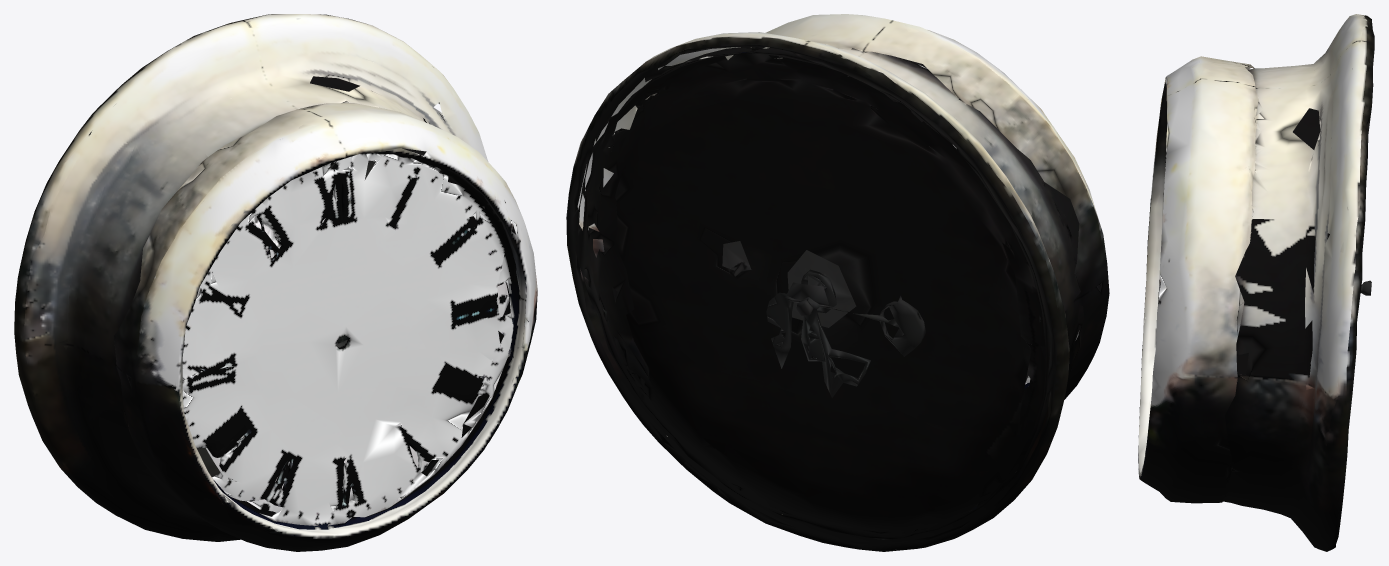
The model's file is hl_clock_face.glb.
The picture shows the model from 3 angles, left to right: view 1: azimuth 30°, elevation 25°; view 2: azimuth 150°, elevation 25°; view 3: azimuth 270°, elevation 25°; orthographic projection. The views are drawn at different scales.
Size of the model in its own units: 0.9858 by 0.9755 by 0.4311.
1 material, 1 textured.
